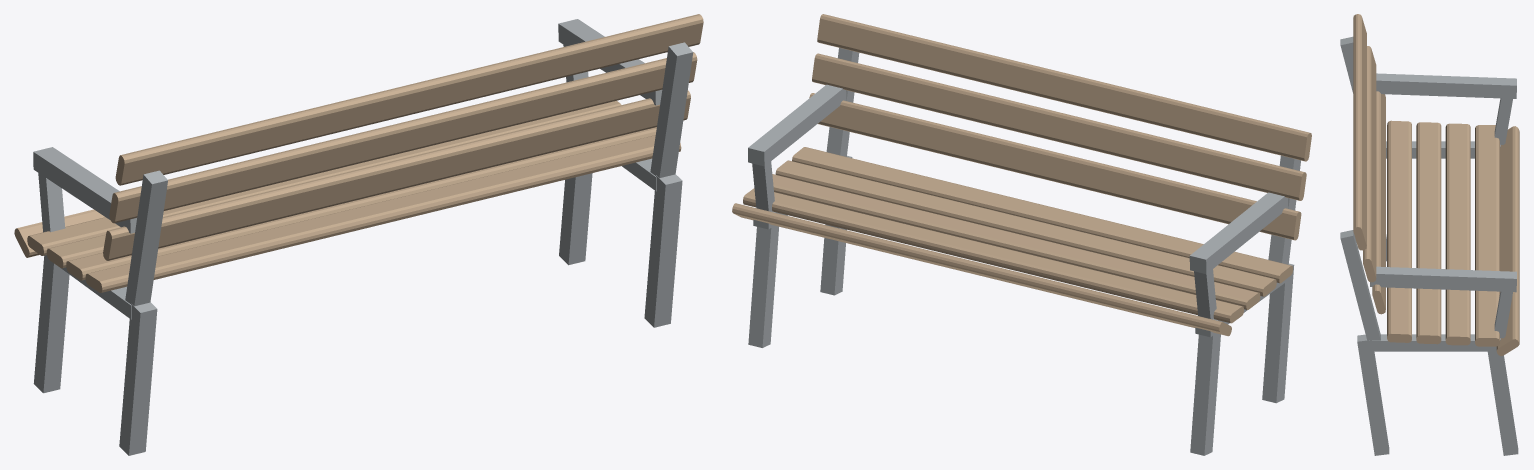
Rendered from bench.glb.
The picture shows the model from 3 angles, left to right: view 1: azimuth 30°, elevation 25°; view 2: azimuth 150°, elevation 25°; view 3: azimuth 270°, elevation 25°; orthographic projection. The views are drawn at different scales.
Visible parts, largest first — view 1: bench; view 2: bench; view 3: bench.
Boxes of the visible parts, bbox=[...] form: bench: bbox=[14, 14, 703, 455]; bench: bbox=[732, 14, 1311, 455]; bench: bbox=[1340, 14, 1519, 455].
Bounding box in the file's own units: 1.94 × 1 × 0.6884.
